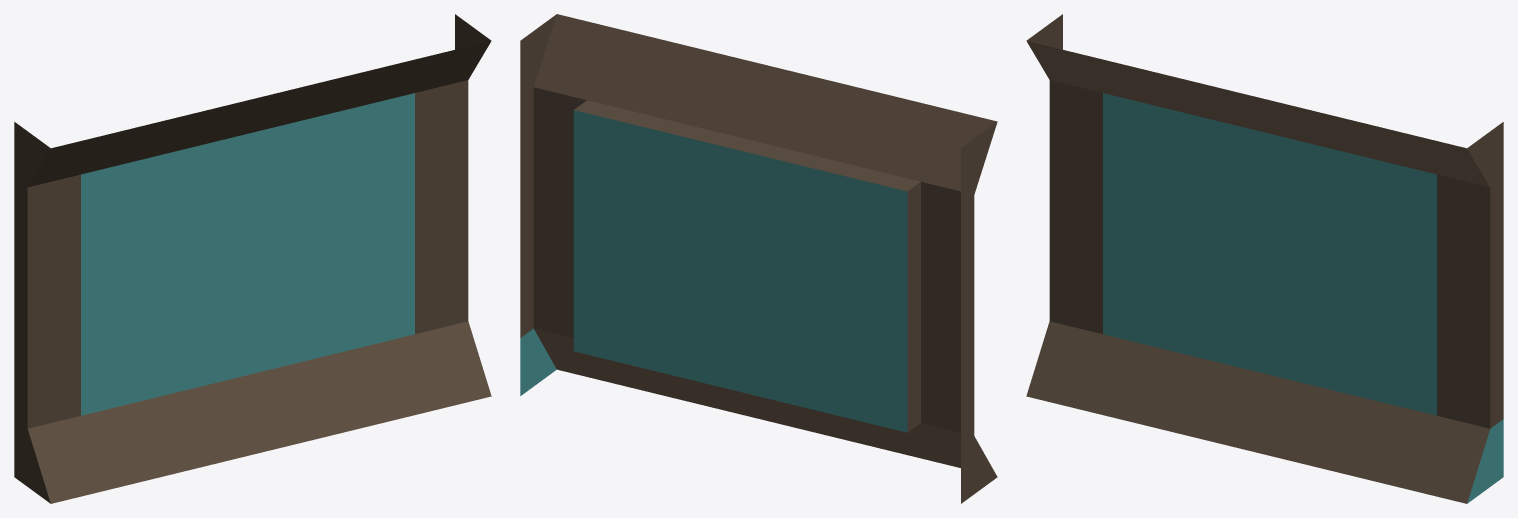
Rendered from Laser_Window_Wall.FBX.
The picture shows the model from 3 angles, left to right: view 1: azimuth 30°, elevation 25°; view 2: azimuth 150°, elevation 25°; view 3: azimuth 330°, elevation 25°; orthographic projection.
Parts seen in each view (by area): view 1: Laser_Window_Wall; view 2: Laser_Window_Wall; view 3: Laser_Window_Wall.
Boxes of the visible parts, x1=… form: Laser_Window_Wall: x1=14, y1=14, x2=491, y2=503; Laser_Window_Wall: x1=520, y1=14, x2=997, y2=503; Laser_Window_Wall: x1=1026, y1=14, x2=1503, y2=503.
Bounding box in the file's own units: 165 × 127 × 23.75.
